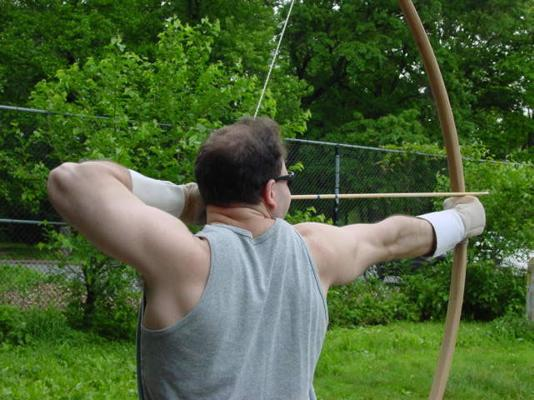person: (48, 118, 487, 400)
